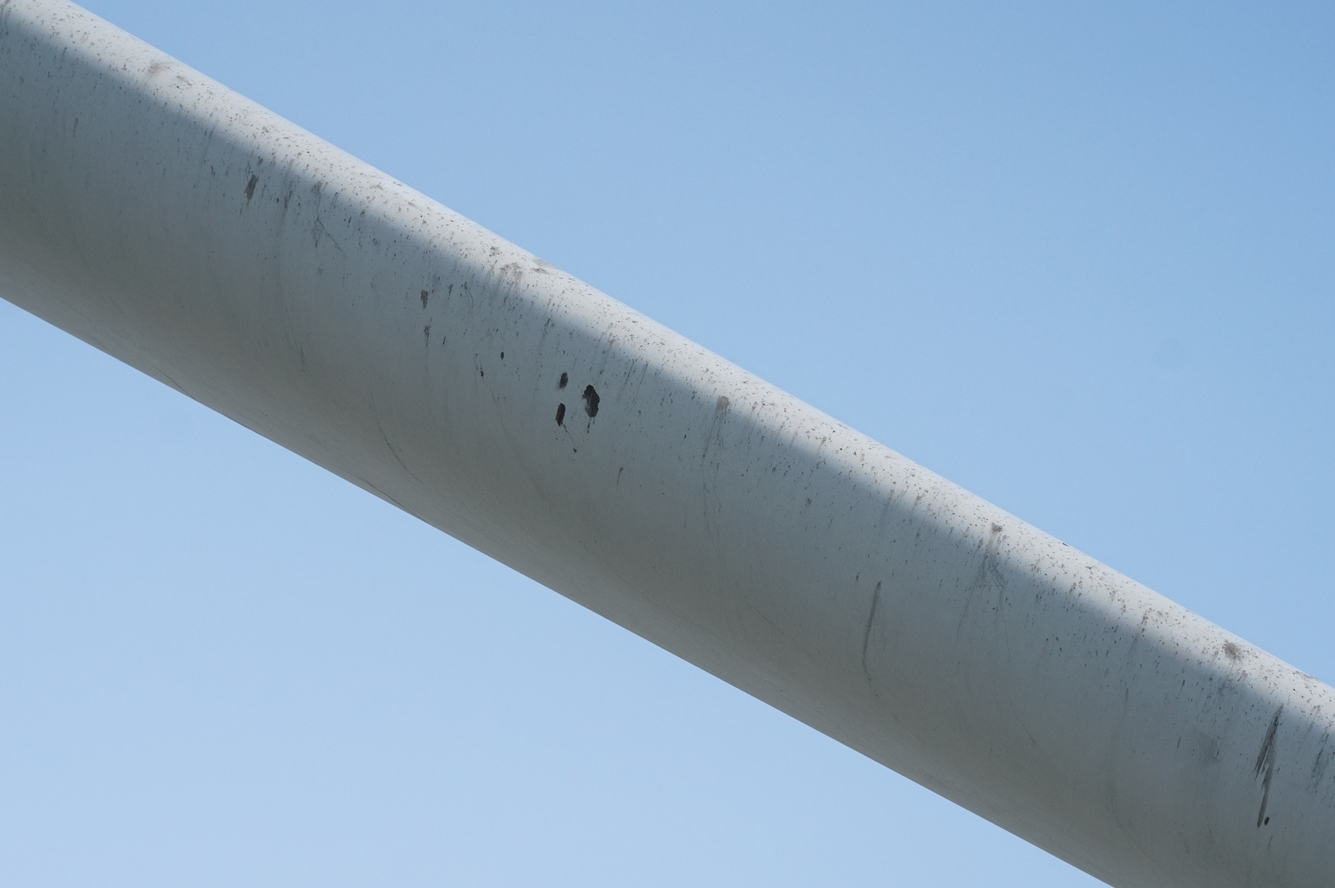Dirt: (583, 383, 600, 425)
